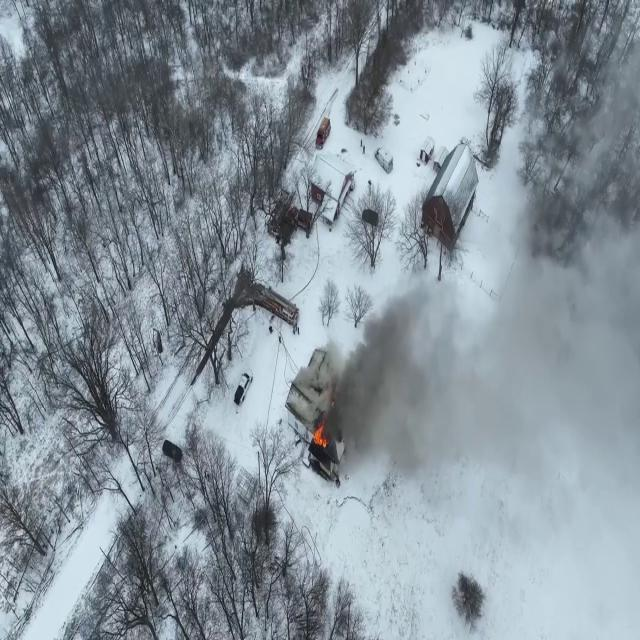Fire: (312, 413, 328, 456)
Smoke: (511, 13, 640, 630), (324, 268, 466, 494)
